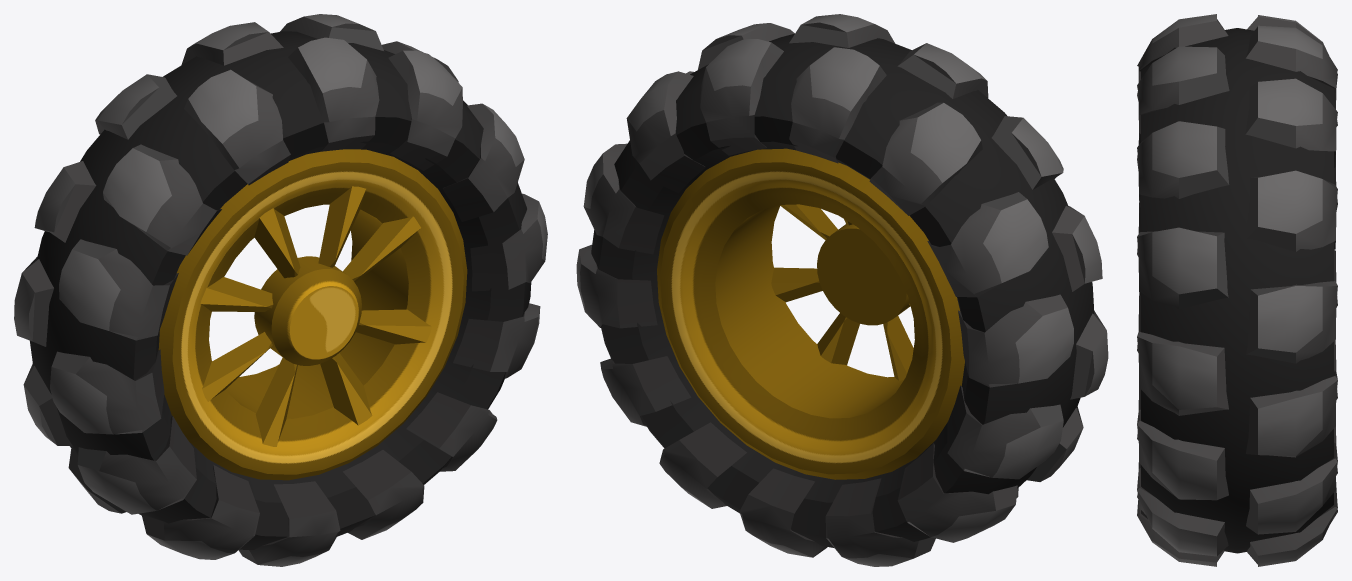
File: tyre_5.glb
The picture shows the model from 3 angles, left to right: view 1: azimuth 30°, elevation 25°; view 2: azimuth 150°, elevation 25°; view 3: azimuth 270°, elevation 25°; orthographic projection.
Parts seen in each view (by area): view 1: Object_12; view 2: Object_12; view 3: Object_12.
Boxes of the visible parts, x1=… form: Object_12: x1=14, y1=14, x2=547, y2=566; Object_12: x1=576, y1=14, x2=1108, y2=566; Object_12: x1=1137, y1=14, x2=1337, y2=566.
Bounding box in the file's own units: 1.43 × 1.43 × 0.5202.
1 material, 1 textured.
